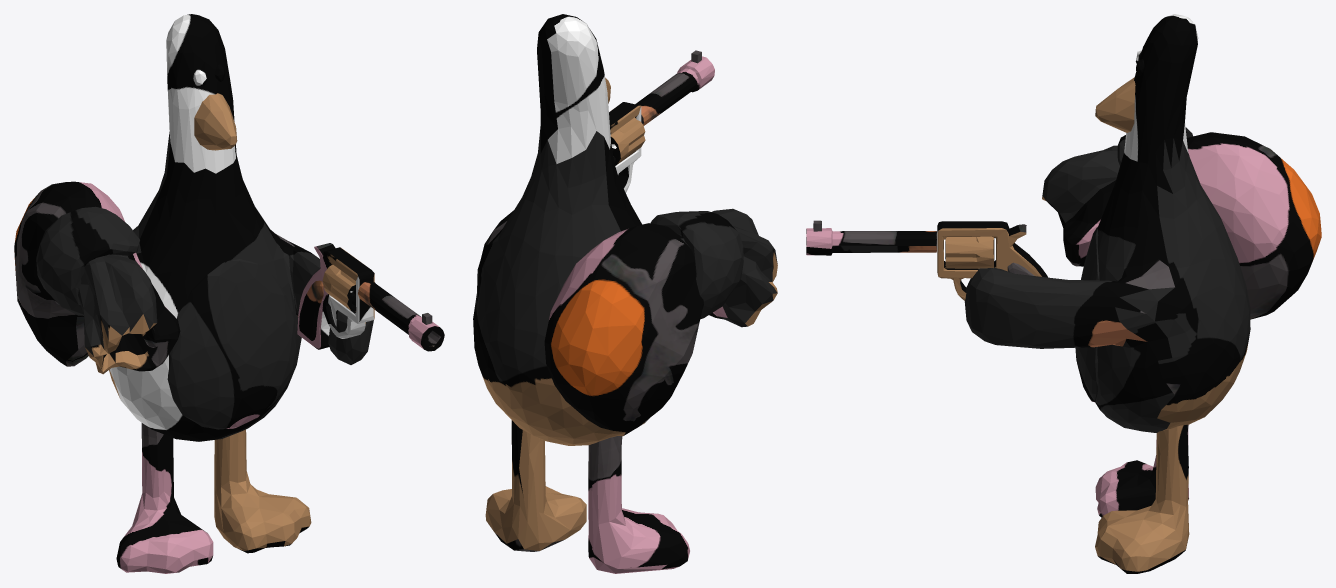
The model's file is robberFlipV.obj.
3 renders of one model, left to right at view 1: azimuth 30°, elevation 25°; view 2: azimuth 150°, elevation 25°; view 3: azimuth 270°, elevation 25°, orthographic. The views are drawn at different scales.
Visible parts, largest first — view 1: Robber; view 2: Robber; view 3: Robber.
Part boxes in pixels (bbox=[...]): Robber: bbox=[14, 14, 444, 573]; Robber: bbox=[473, 14, 777, 573]; Robber: bbox=[806, 14, 1321, 573].
Size of the model in its own units: 3.06 by 6.05 by 5.48.
